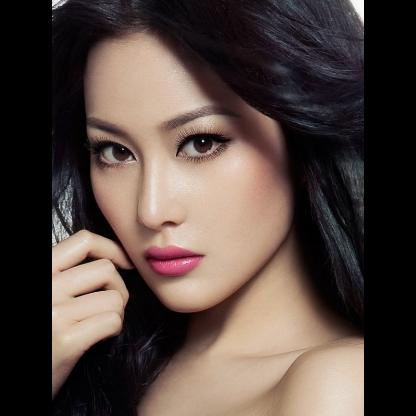Female: (85, 30, 293, 314)
